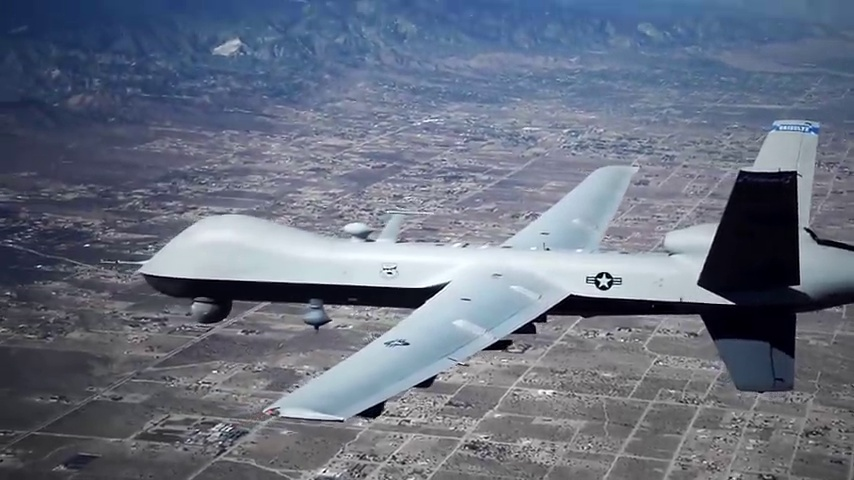military drone: (139, 119, 854, 423)
